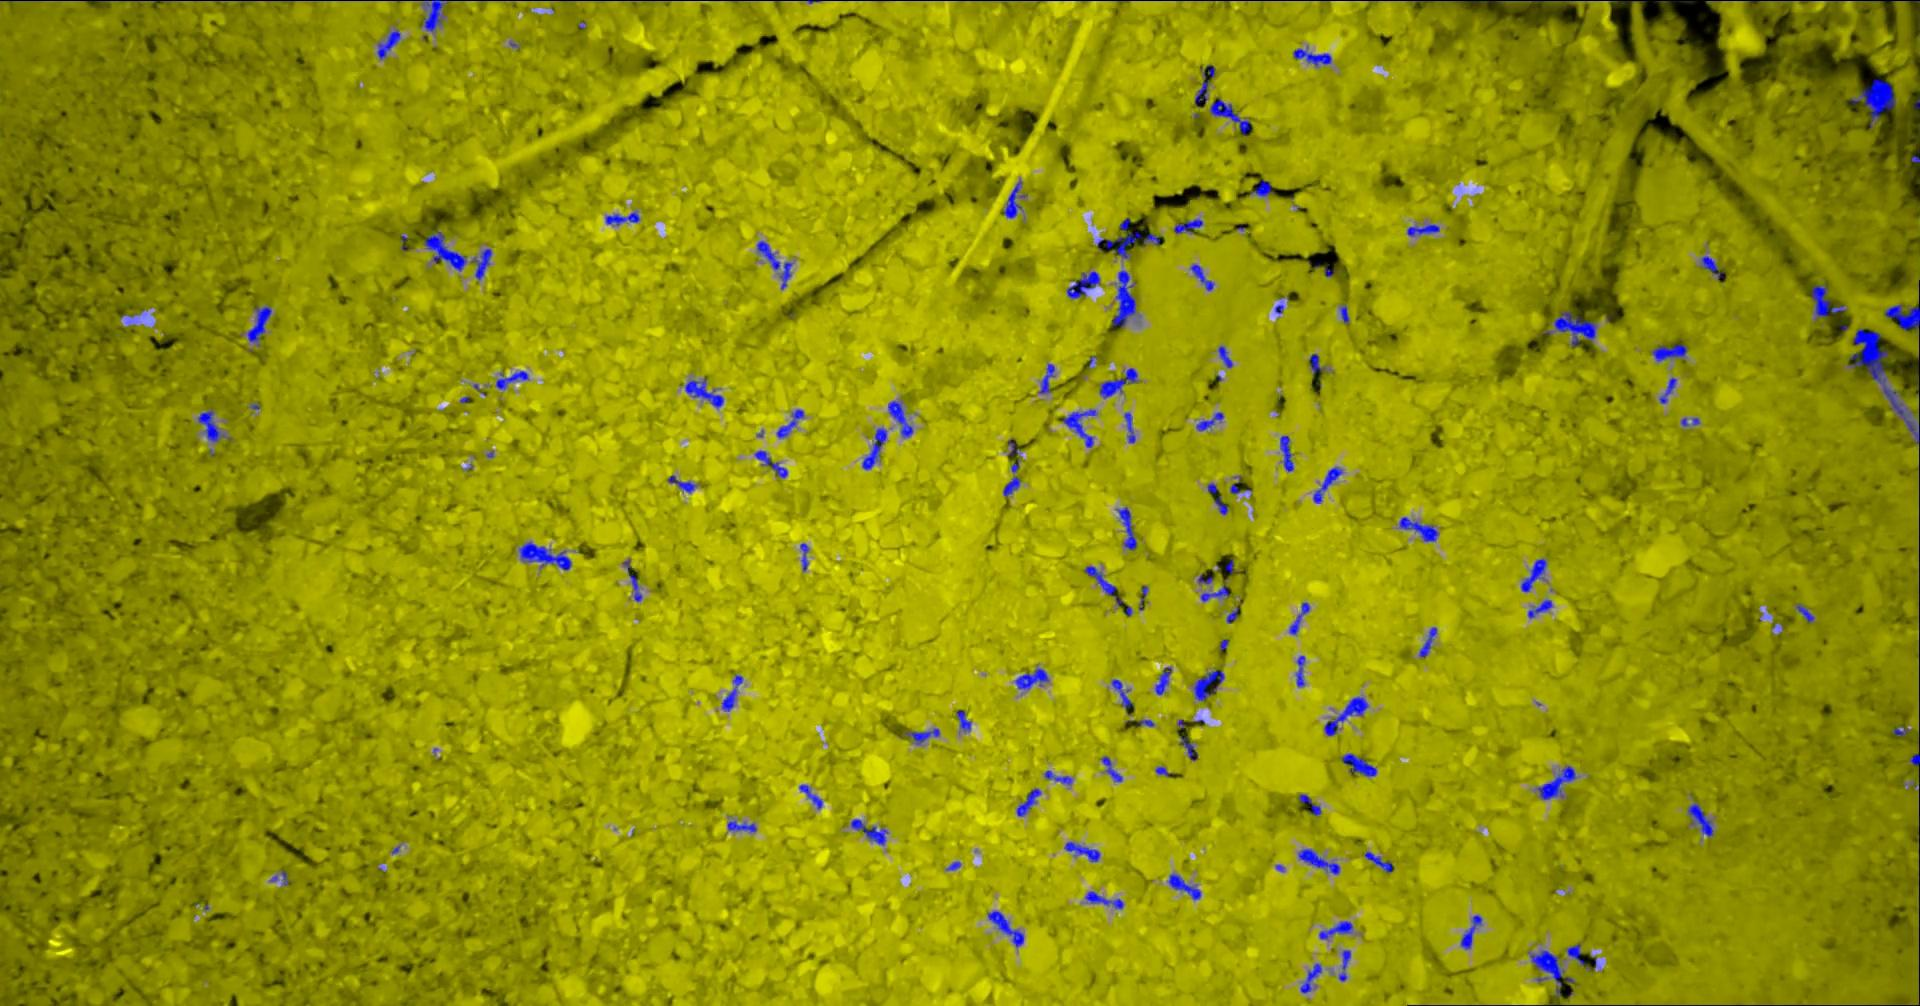ant: (425, 229, 493, 279), (1098, 218, 1161, 258), (1851, 77, 1897, 127), (1531, 950, 1577, 997), (758, 240, 794, 290), (1324, 696, 1369, 735), (521, 541, 573, 570), (1086, 565, 1124, 605), (1211, 98, 1252, 135), (1556, 311, 1597, 345), (1538, 765, 1577, 799), (1112, 271, 1137, 326), (989, 909, 1025, 946), (1064, 409, 1097, 447), (1812, 283, 1848, 318), (1101, 367, 1139, 398), (686, 377, 725, 406), (1314, 466, 1343, 503), (1300, 848, 1341, 874), (863, 427, 888, 469), (1886, 301, 1920, 330), (1401, 516, 1440, 541), (889, 400, 914, 437), (852, 818, 889, 843), (1195, 669, 1225, 700), (1068, 271, 1101, 298), (756, 450, 789, 478), (1004, 180, 1029, 217), (1689, 803, 1716, 836), (1170, 873, 1203, 899), (1117, 506, 1138, 549), (249, 306, 273, 342), (1523, 558, 1548, 591), (199, 410, 226, 441), (1196, 64, 1217, 103), (723, 674, 744, 711), (1343, 753, 1378, 776), (778, 409, 805, 437), (424, 0, 448, 30), (1065, 841, 1101, 861), (1462, 915, 1483, 948), (378, 29, 403, 58), (1087, 890, 1125, 908), (1018, 788, 1043, 815), (1017, 668, 1050, 688), (1112, 680, 1135, 709), (1302, 963, 1323, 993), (1004, 459, 1022, 495), (1209, 483, 1229, 514), (1290, 602, 1310, 634), (1295, 48, 1333, 65), (497, 370, 530, 389), (1191, 264, 1215, 290), (1653, 343, 1688, 361), (1366, 851, 1394, 873), (800, 784, 824, 808), (907, 728, 941, 744), (1703, 255, 1726, 279), (1102, 756, 1124, 781), (1321, 921, 1354, 937), (1197, 412, 1225, 431), (1281, 434, 1295, 471), (1300, 793, 1322, 815), (1040, 363, 1057, 392), (1421, 626, 1437, 655), (607, 211, 641, 225), (1156, 667, 1173, 694), (669, 475, 697, 492), (1529, 600, 1553, 617), (1181, 735, 1199, 760), (1203, 586, 1230, 601), (1661, 377, 1677, 403), (1175, 218, 1204, 232), (1410, 224, 1441, 236), (1340, 949, 1352, 981), (1568, 942, 1586, 964), (1046, 770, 1073, 784), (1251, 179, 1272, 196), (1125, 412, 1137, 442), (1797, 603, 1815, 622), (1219, 345, 1234, 367), (1310, 353, 1326, 373), (631, 574, 643, 601), (729, 821, 758, 831), (957, 710, 971, 730), (1297, 655, 1305, 686), (801, 542, 810, 572), (1911, 752, 1920, 774), (1228, 607, 1239, 622), (1341, 304, 1350, 323), (1895, 727, 1910, 735), (1450, 0, 1509, 1), (1517, 0, 1575, 1)
